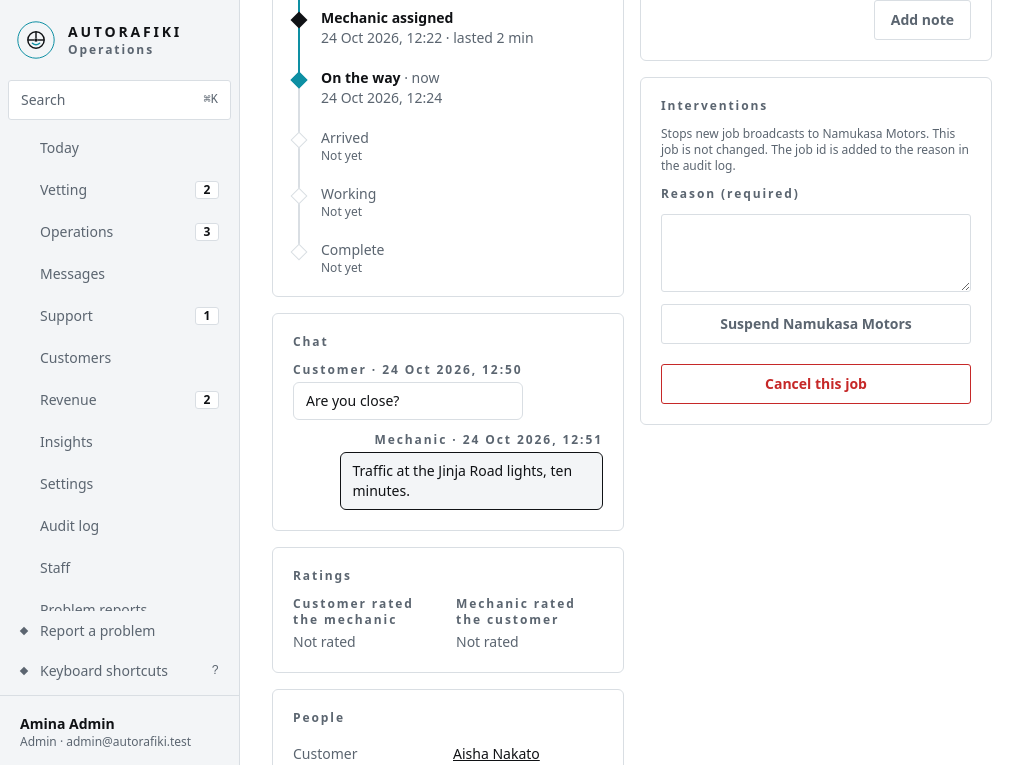
Test: interventions › cancels an on-the-way job as AutoRafiki support, with a reason
(page scrolled)
Click the button "Cancel this job".
click(816, 384)  # box [661,364,971,404]
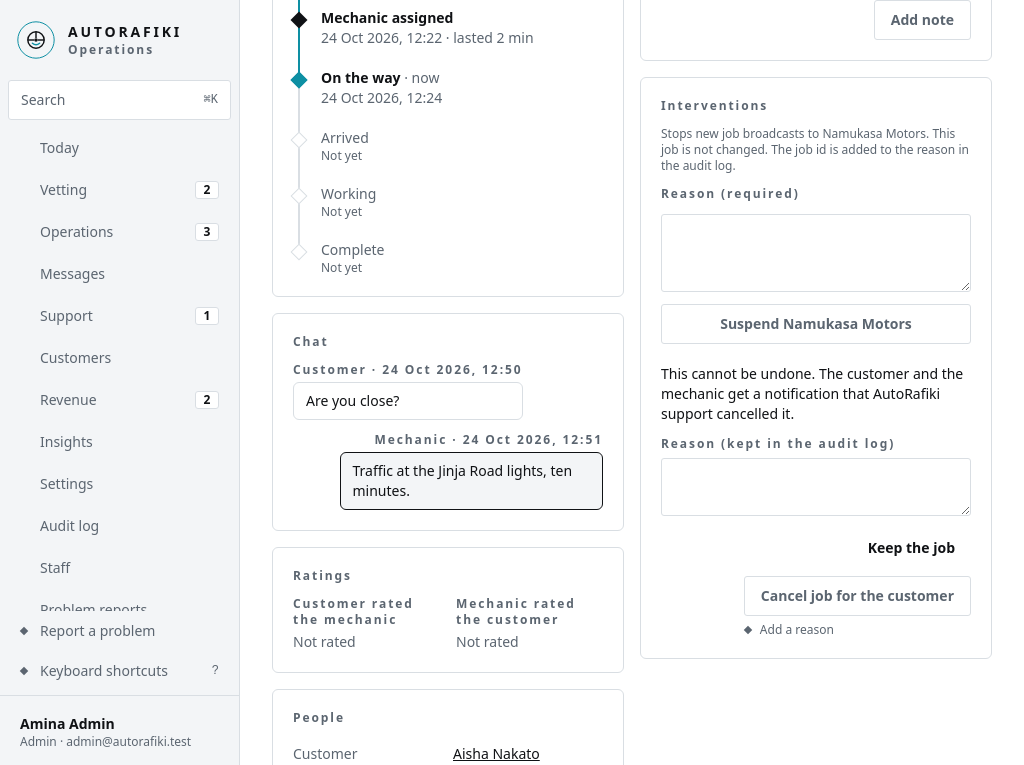
Expected: the form named "Cancel this job" shows "The customer and the mechanic get a notification", [661,364,971,638]
Expected: the button "Cancel job for the customer" is disabled, [744,576,971,616]
Type "Mechanic unreachable for 40 minutes" into the text box labelled "Reason (kept in the audit log)".
click(816, 487); type("Mechanic unreachable for 40 minutes")  # box [661,458,971,516]
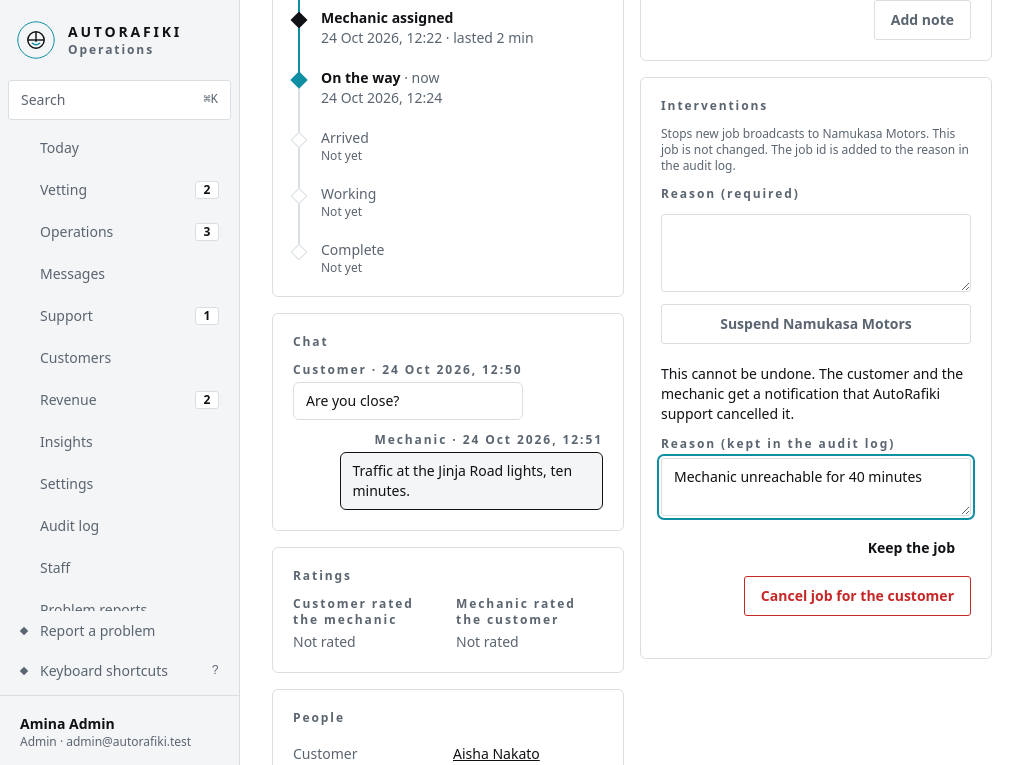
Click the button "Cancel job for the customer".
click(857, 596)  # box [744,576,971,616]
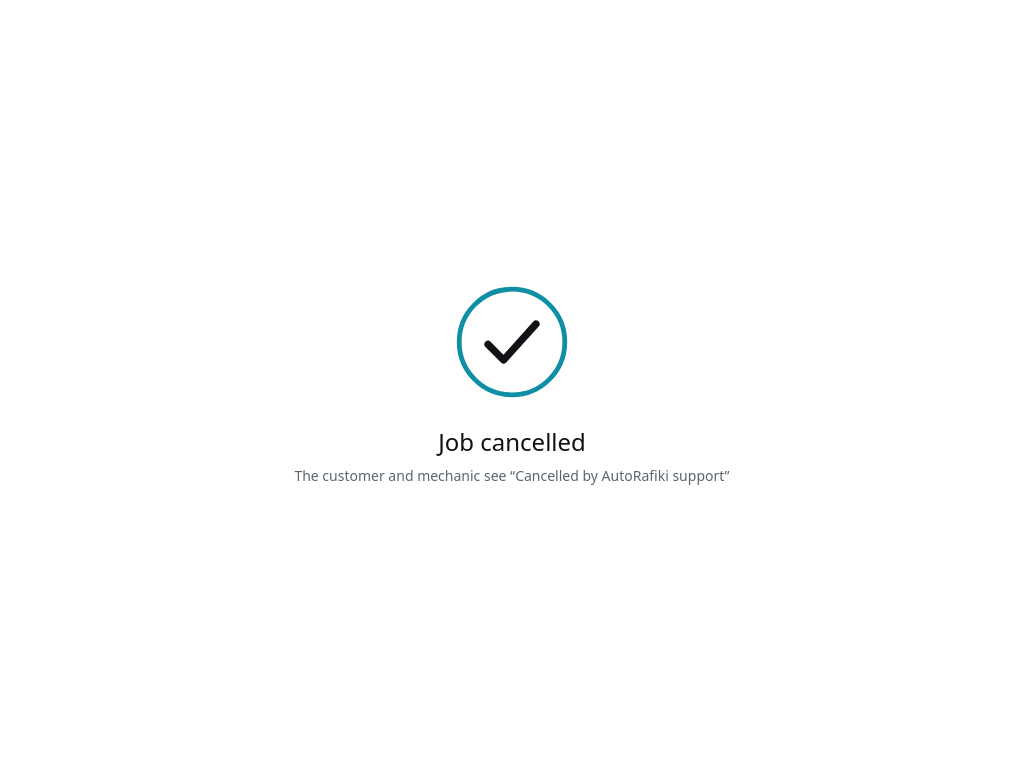
Expected: the text "Job cancelled" is shown, [438,426,586,458]
